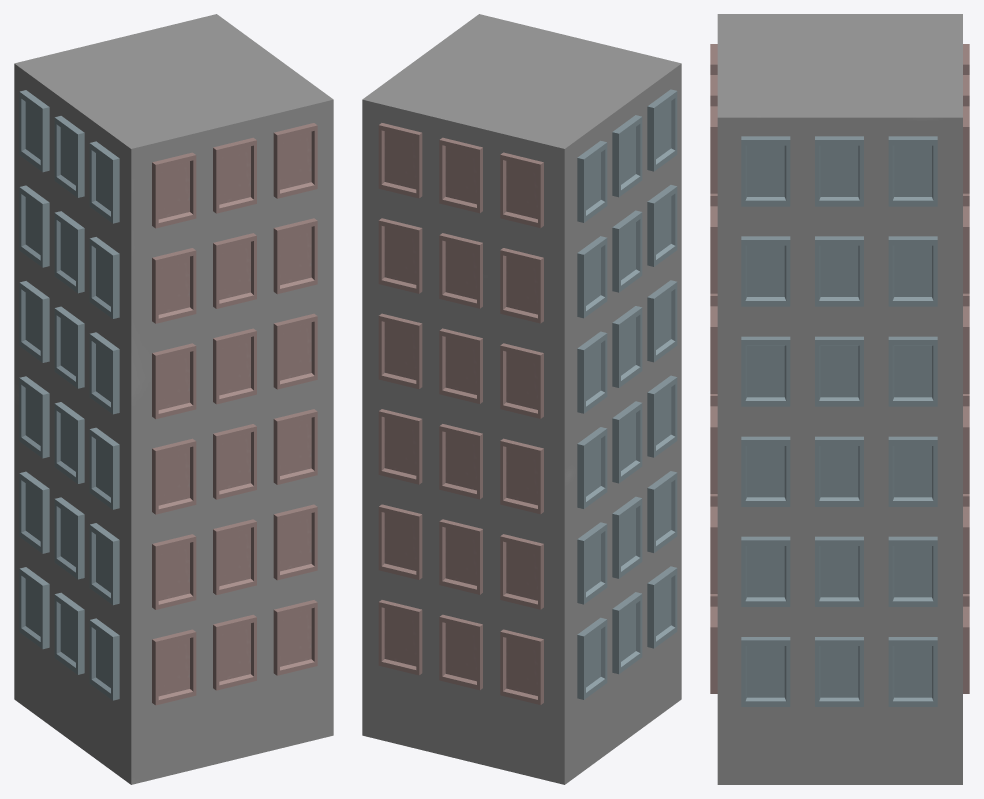
Rendered from skayscraper.fbx.
The picture shows the model from 3 angles, left to right: view 1: azimuth 30°, elevation 25°; view 2: azimuth 150°, elevation 25°; view 3: azimuth 270°, elevation 25°; orthographic projection. The views are drawn at different scales.
Visible parts, largest first — view 1: Cube, Plane.001, Plane; view 2: Cube, Plane.001, Plane; view 3: Cube, Plane, Plane.001.
Part boxes in pixels (x1,y1,x2,y2): Cube: [14, 14, 333, 784]; Plane.001: [152, 123, 317, 705]; Plane: [19, 90, 119, 700]; Cube: [362, 14, 681, 784]; Plane.001: [378, 123, 543, 704]; Plane: [577, 89, 677, 699]; Cube: [717, 14, 962, 784]; Plane: [741, 136, 937, 706]; Plane.001: [710, 44, 969, 693].
Bounding box in the file's own units: 2139 × 6000 × 2116.
